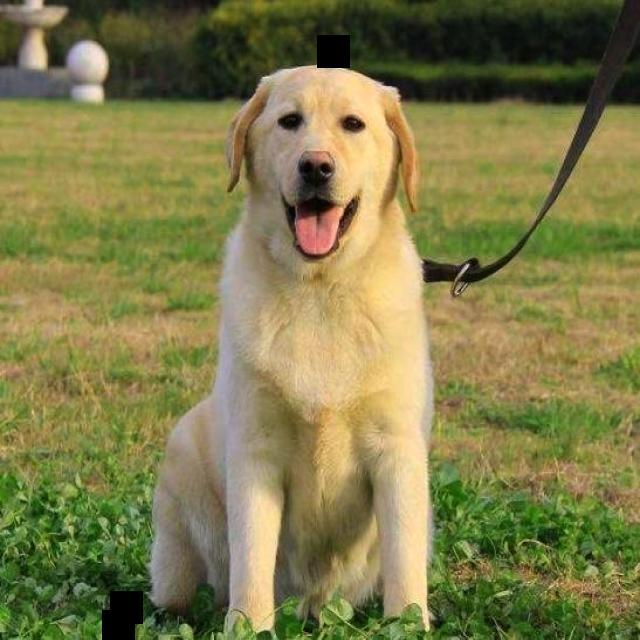adult_dog: (145, 64, 436, 640)
